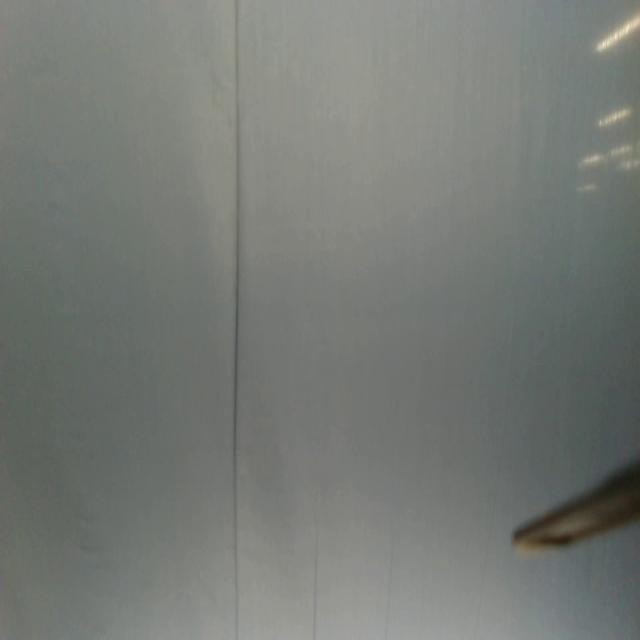crease: (232, 0, 242, 640), (308, 517, 322, 639)
